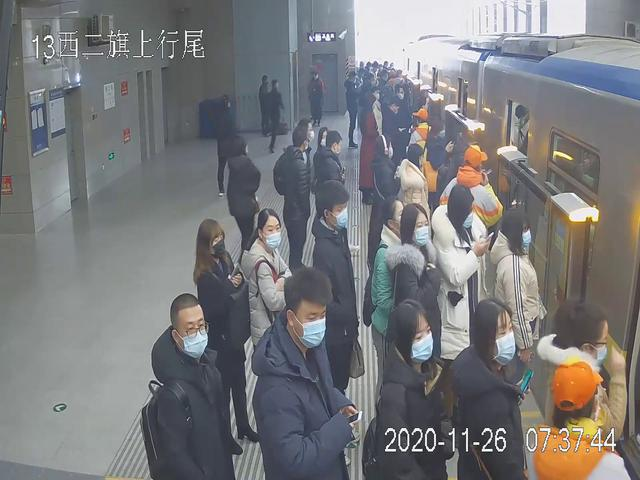person: (252, 268, 359, 480), (191, 218, 266, 457), (152, 294, 241, 480), (382, 199, 447, 438), (374, 298, 456, 480), (452, 297, 532, 480), (310, 179, 366, 439), (239, 207, 296, 430), (491, 203, 546, 396), (432, 186, 481, 370), (274, 120, 317, 269), (368, 132, 403, 272), (224, 135, 264, 253)
